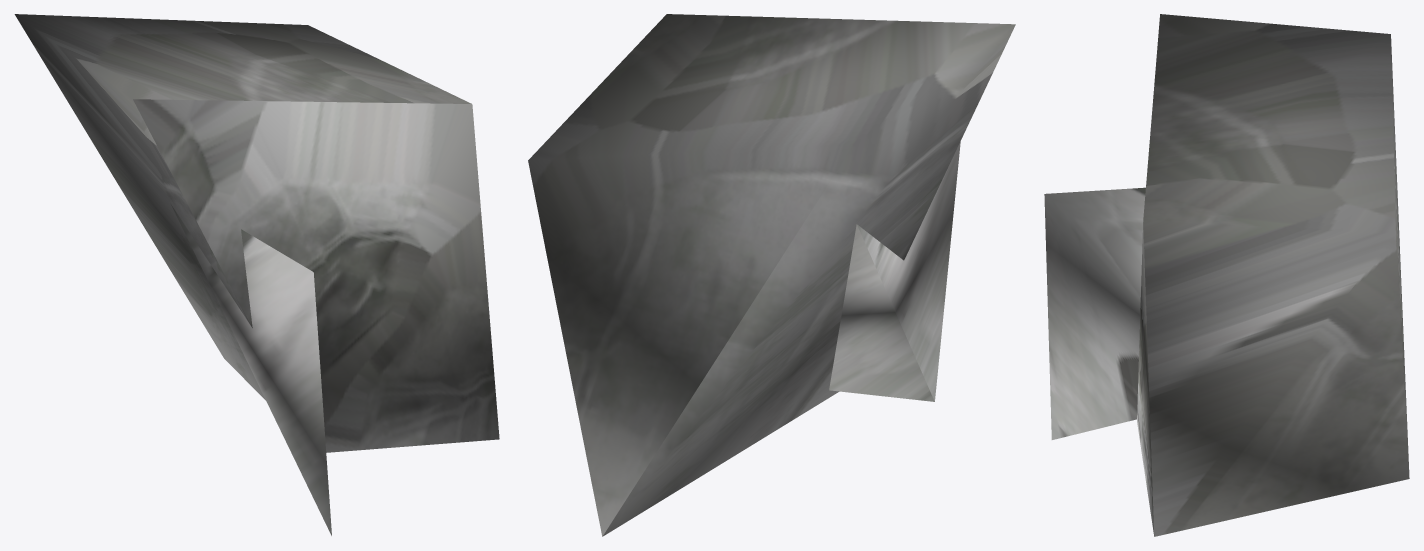
The model's file is 3_R_Grande_LOD_2.fbx.
The picture shows the model from 3 angles, left to right: view 1: azimuth 30°, elevation 25°; view 2: azimuth 150°, elevation 25°; view 3: azimuth 270°, elevation 25°; orthographic projection. The views are drawn at different scales.
Visible parts, largest first — view 1: 3_R_Grande_LOD_2; view 2: 3_R_Grande_LOD_2; view 3: 3_R_Grande_LOD_2.
Part boxes in pixels (x1,y1,x2,y2): 3_R_Grande_LOD_2: [14, 14, 499, 535]; 3_R_Grande_LOD_2: [528, 14, 1015, 536]; 3_R_Grande_LOD_2: [1044, 14, 1409, 536].
Bounding box in the file's own units: 1376 × 1542 × 1382.
